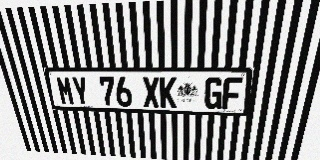6: (114, 77, 133, 107)
7: (98, 77, 117, 106)
F: (222, 77, 243, 110)
G: (204, 77, 224, 109)
K: (159, 77, 176, 108)
M: (55, 76, 76, 105)
X: (142, 77, 160, 107)
Y: (71, 76, 90, 106)
